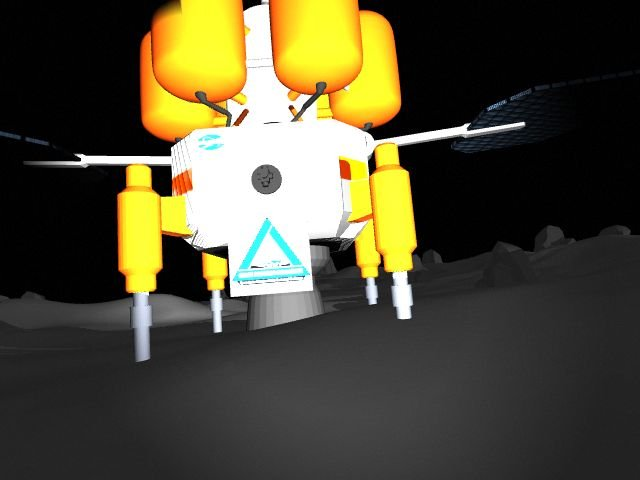basemarker: (232, 216, 312, 285)
